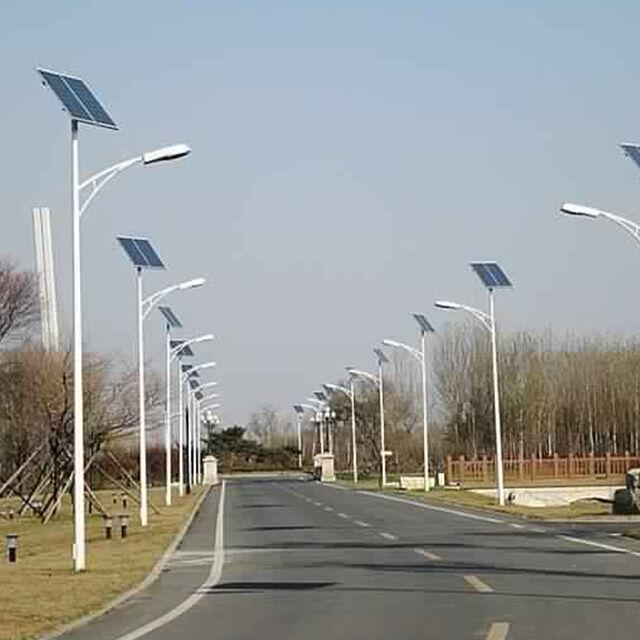pole: (60, 282, 95, 564), (131, 379, 157, 525)
